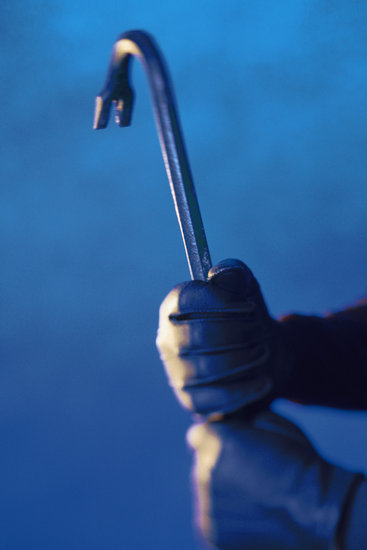crowbar: (72, 6, 209, 282)
